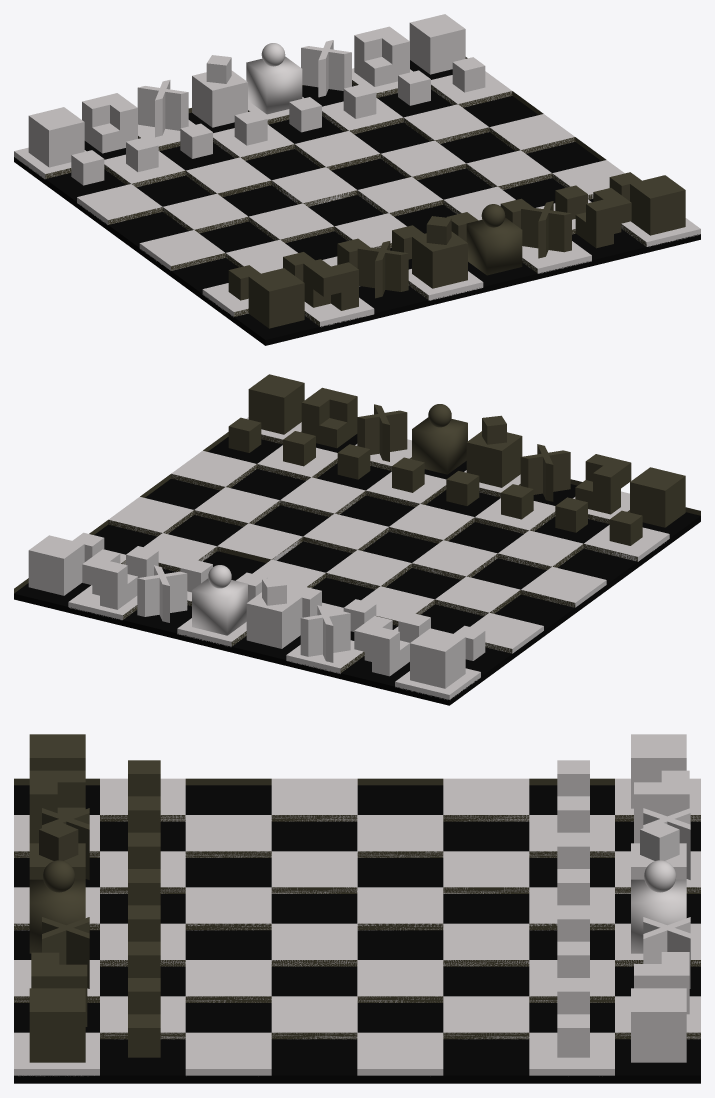
The model's file is hartwigSet2.glb.
3 views of the same model, one above another, from view 1: azimuth 30°, elevation 25°; view 2: azimuth 150°, elevation 25°; view 3: azimuth 270°, elevation 25° (orthographic). The views are drawn at different scales.
Parts seen in each view (by area): view 1: Board, King B, Queen B, King W, Queen W, Rook B1, Rook B2, Rook W2, Rook W1, Knight W1, Knight W2, Knight B1 (+45 smaller); view 2: Board, King W, King B, Queen W, Queen B, Rook W1, Rook W2, Knight B2, Rook B1, Rook B2, Knight B1, Knight W2 (+43 smaller); view 3: Board, Rook B2, Rook W1, a4, a6, h3, h5, d3, d5, b3, b5, g4 (+69 smaller).
Boxes of the visible parts, x1,y1,x2,y2 form: Board: (14,60,700,345); King B: (412,216,467,288); Queen B: (466,204,522,275); King W: (192,55,247,127); Queen W: (246,43,302,114); Rook B1: (248,268,304,328); Rook B2: (630,175,685,235); Rook W2: (28,107,84,167); Rook W1: (409,14,465,74); Knight W1: (354,26,409,86); Knight W2: (82,93,137,153); Knight B1: (303,259,358,310); Board: (14,434,700,705); King W: (246,576,302,648); King B: (466,415,522,487); Queen W: (192,565,247,635); Queen B: (412,404,467,474); Rook W1: (28,535,84,595); Rook W2: (410,628,465,688); Knight B2: (301,387,357,448); Rook B1: (630,467,685,527); Rook B2: (248,374,304,434); Knight B1: (575,454,631,514); Knight W2: (354,616,409,676); Board: (14,785,700,1083); Rook B2: (29,988,85,1062); Rook W1: (631,988,686,1062); a4: (357,1032,443,1075); a6: (185,1032,271,1075); h3: (443,778,529,821); h5: (271,778,357,821); d3: (443,923,529,966); d5: (271,923,357,966); b3: (443,996,529,1039); b5: (271,996,357,1039); g4: (357,815,443,857).
Size of the model in its own units: 8 by 1.21 by 8.
